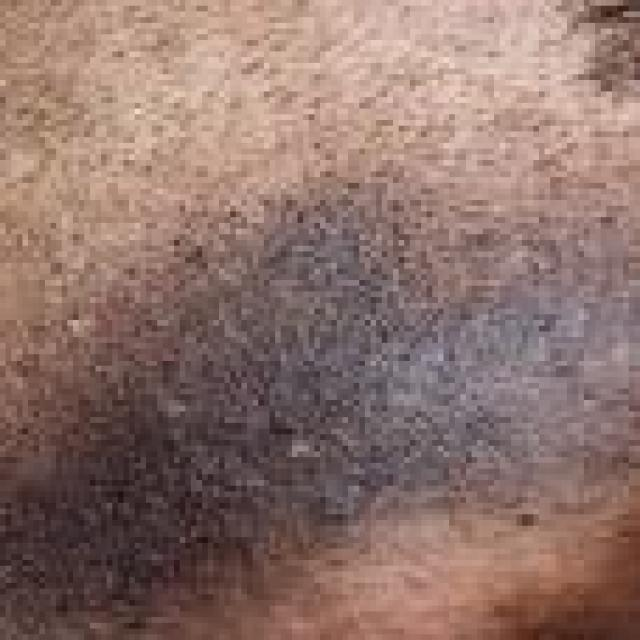Melasma: (0, 192, 640, 599)
